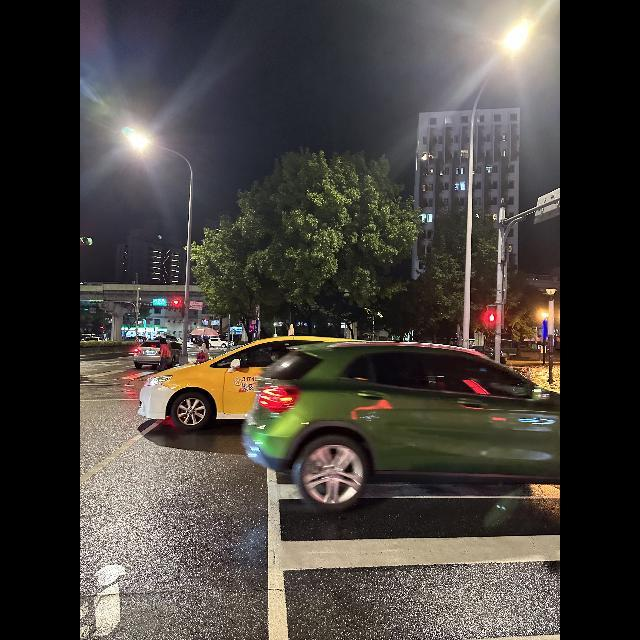sidewalk: (264, 361, 560, 638)
